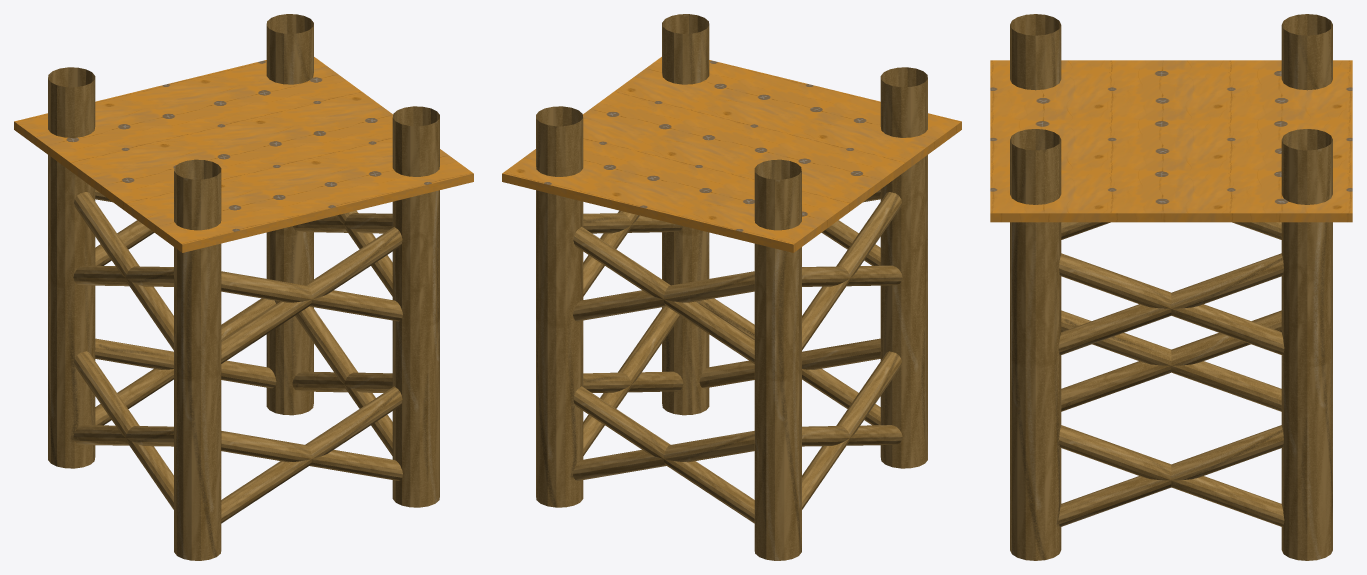
File: GroundPlatformTopExtendedContinous.fbx
3 renders of one model, left to right at view 1: azimuth 30°, elevation 25°; view 2: azimuth 150°, elevation 25°; view 3: azimuth 270°, elevation 25°, orthographic. The views are drawn at different scales.
Visible parts, largest first — view 1: GroundPlatformTopExtendedContinous; view 2: GroundPlatformTopExtendedContinous; view 3: GroundPlatformTopExtendedContinous.
Boxes of the visible parts, <box> form: GroundPlatformTopExtendedContinous: <box>14,14,473,560</box>; GroundPlatformTopExtendedContinous: <box>502,14,961,560</box>; GroundPlatformTopExtendedContinous: <box>990,14,1352,560</box>.
Bounding box in the file's own units: 160 × 200 × 160.
